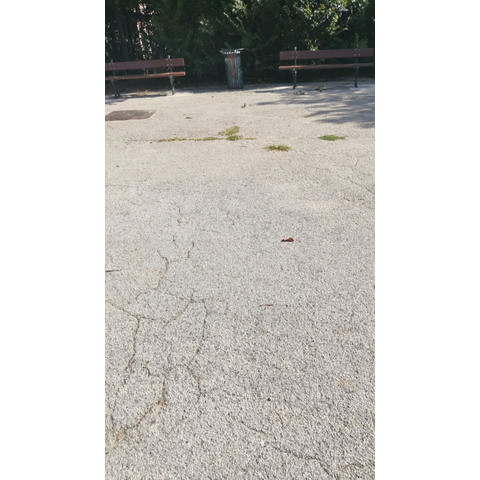poubelle: (219, 46, 253, 95)
